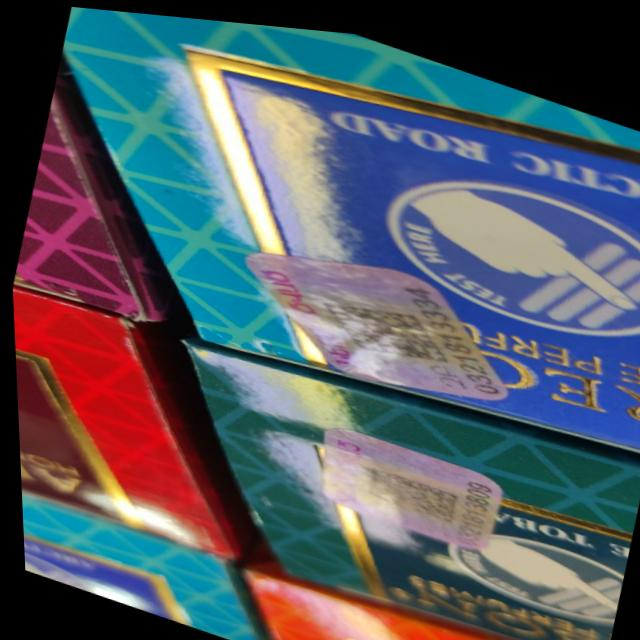datamatrix: (309, 277, 457, 371)
